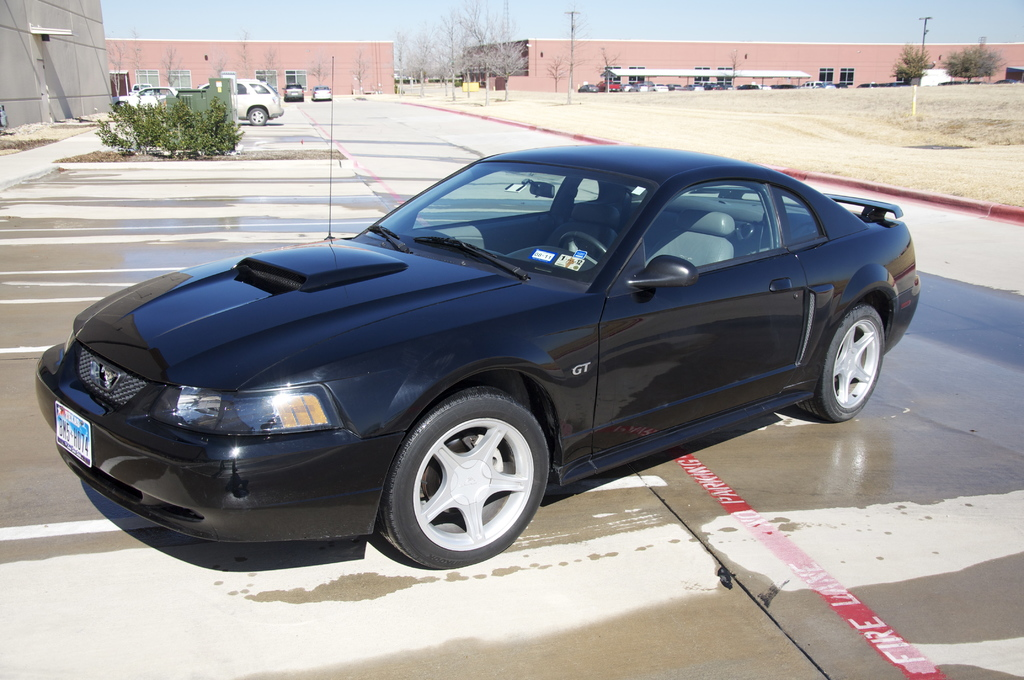Car: (30, 51, 927, 575), (226, 78, 280, 124), (581, 79, 728, 91), (117, 81, 177, 109), (279, 81, 304, 103), (309, 87, 328, 99)
